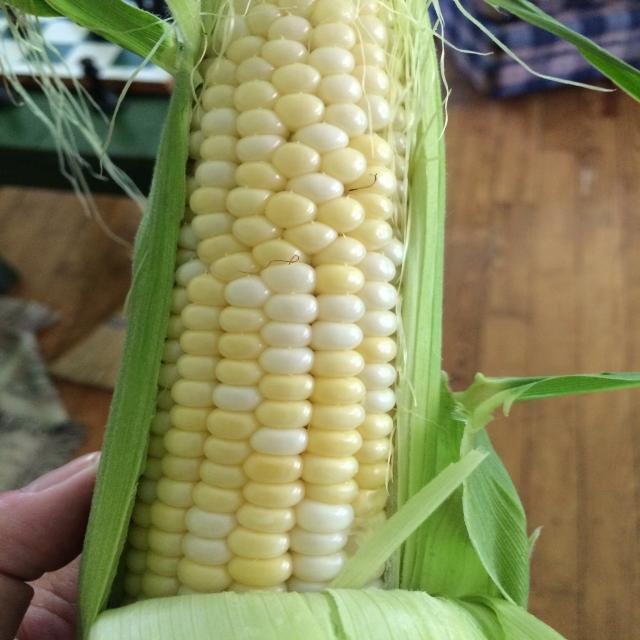corn: (90, 0, 452, 626)
